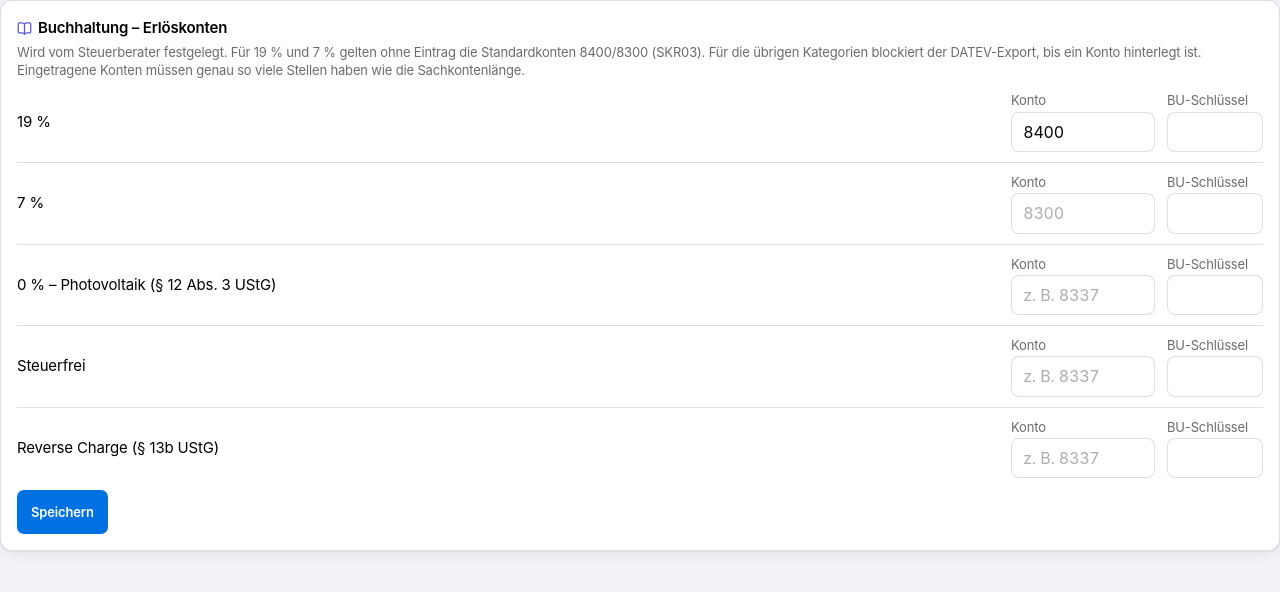
ErloeskontenSection › sperrt Speichern bei ungültigem Konto (3 Ziffern) und BU (4 Ziffern)
Type "833" into the field labelled "Konto" in the row of "Reverse Charge (§ 13b UStG)" at x=1083, y=458, box [1011, 438, 1155, 478]
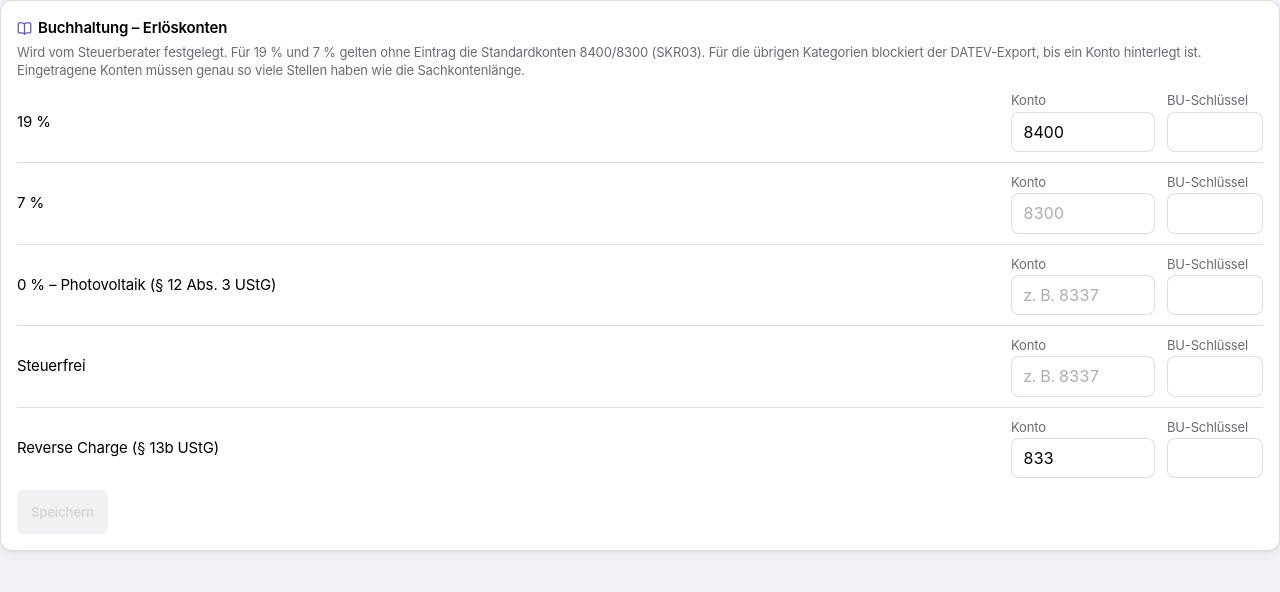
Leave the field labelled "Konto" in the row of "Reverse Charge (§ 13b UStG)", box [1011, 438, 1155, 478]
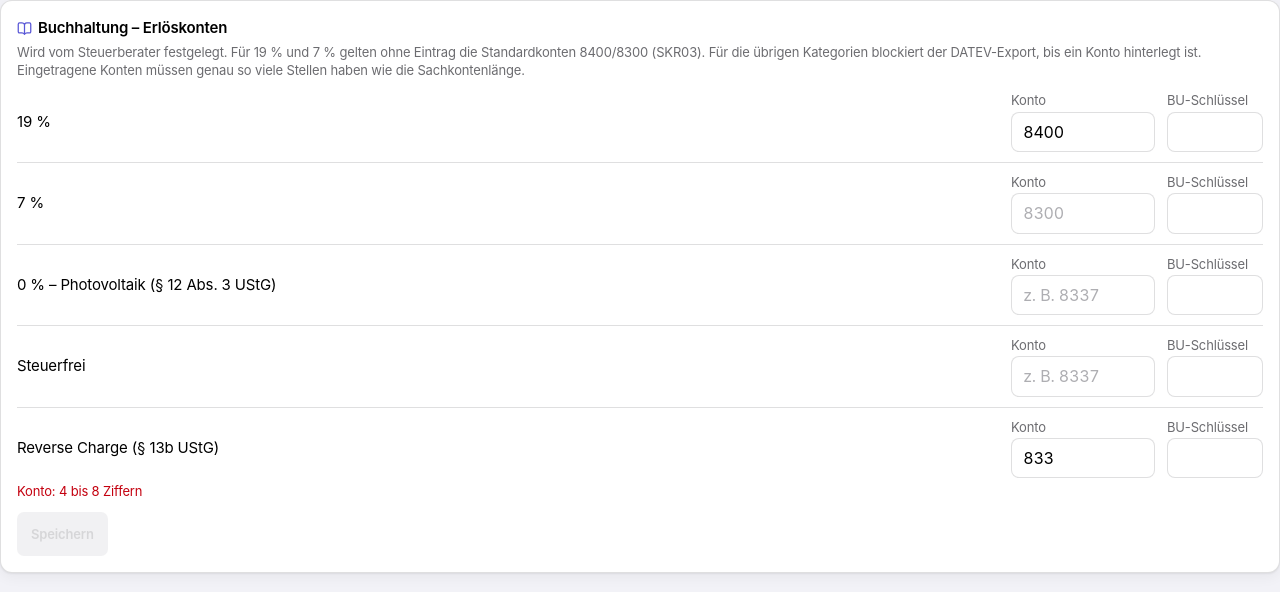
Now the button "Speichern" is disabled, box [17, 512, 108, 556]
Now the message reads "Konto: 4 bis 8 Ziffern", box [17, 483, 142, 499]
Replace the text in the field labelled "Konto" in the row of "Reverse Charge (§ 13b UStG)" with "8337" at x=1083, y=458, box [1011, 438, 1155, 478]
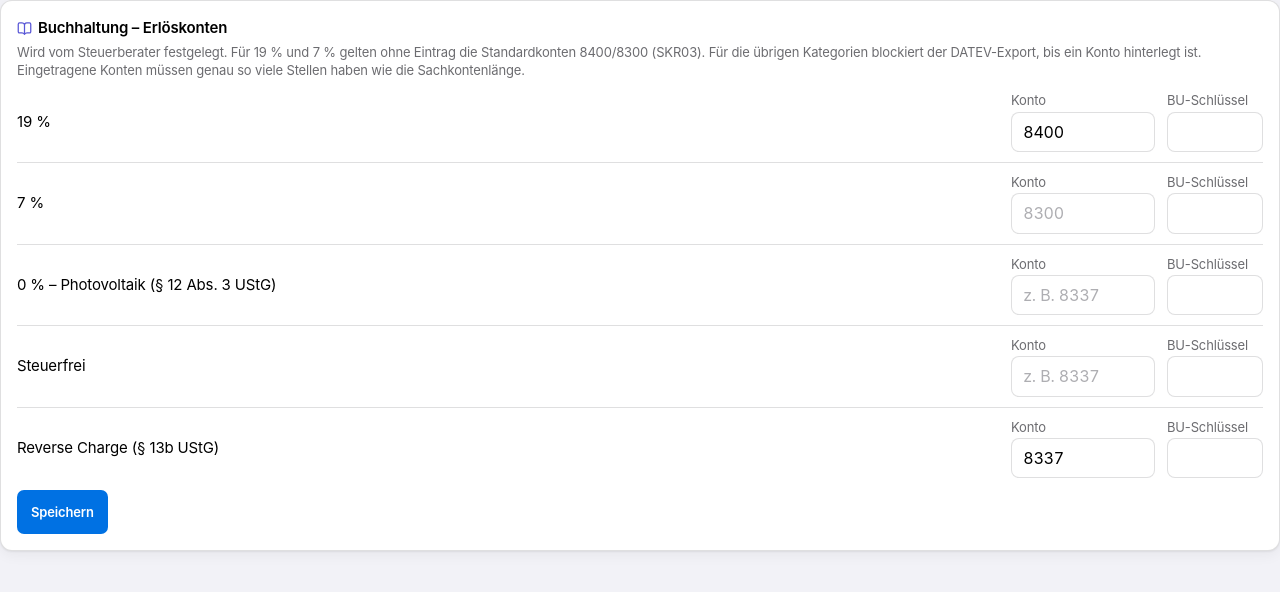
Now the button "Speichern" is enabled, box [17, 490, 108, 534]
Type "1234" into the field labelled "BU-Schlüssel" in the row of "Reverse Charge (§ 13b UStG)" at x=1215, y=458, box [1167, 438, 1263, 478]
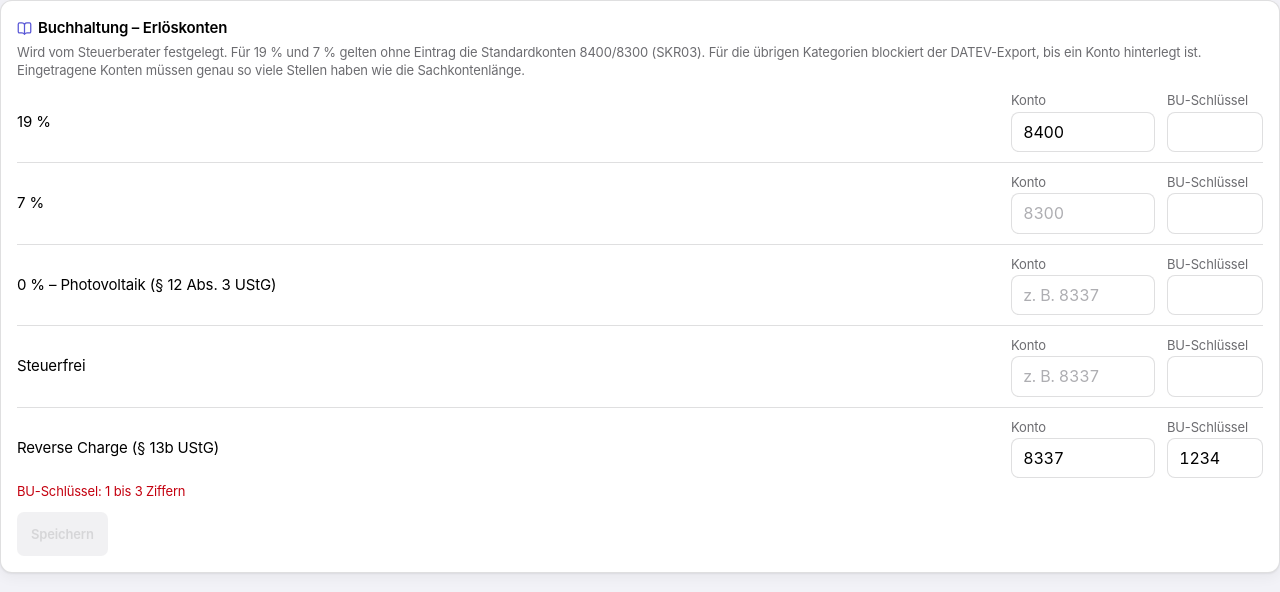
Now the button "Speichern" is disabled, box [17, 512, 108, 556]
